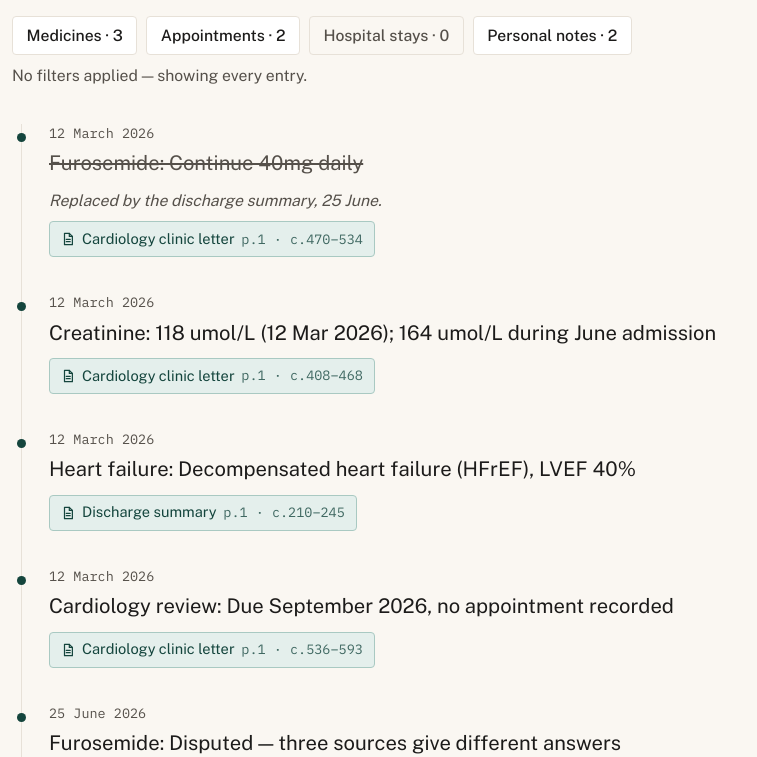
Scenario: TimelineFilters › renders a zero-count chip in the muted zero-state, still pressable, still telling the truth
Click the button "Hospital stays · 0".
click(386, 36)  # box [309,16,464,55]
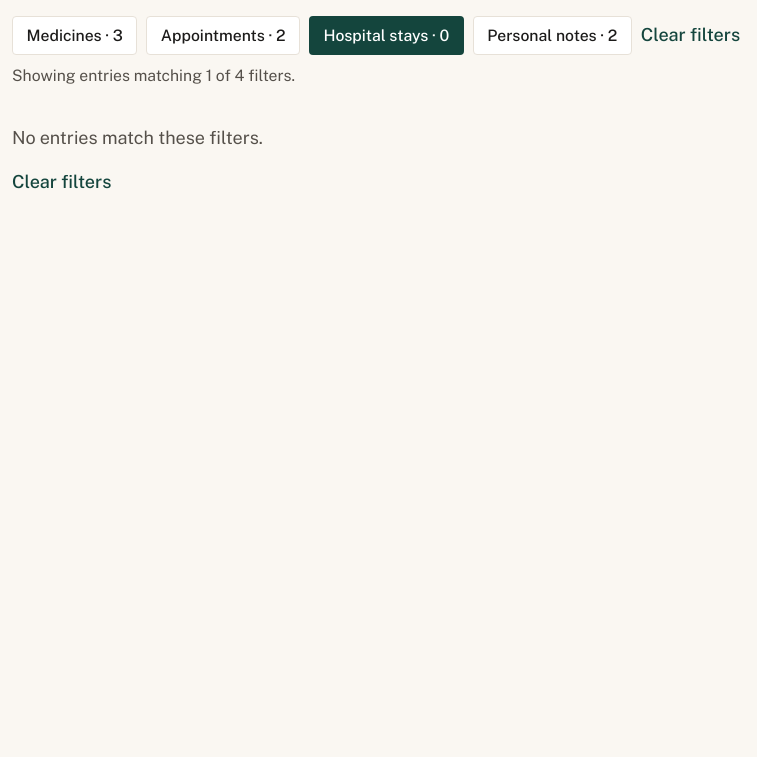
Check: the text "No entries match these filters." is shown, box [12,127,263,148]
